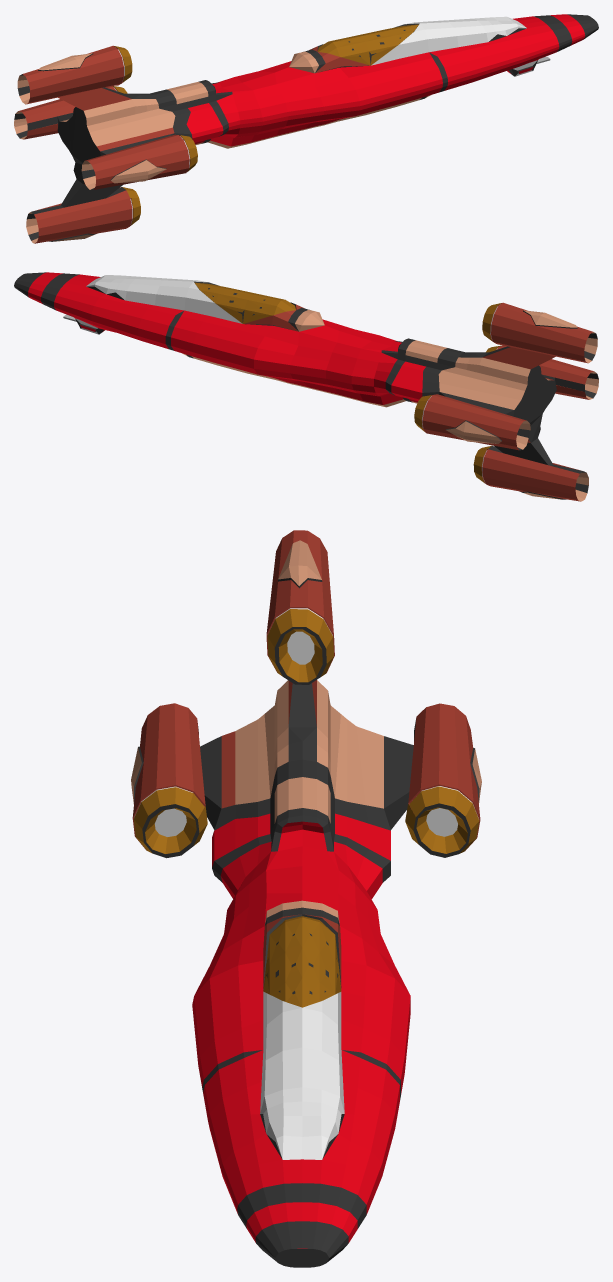
Rendered from NoUpg.fbx.
3 renders of one model, top to bottom at view 1: azimuth 30°, elevation 25°; view 2: azimuth 150°, elevation 25°; view 3: azimuth 270°, elevation 25°, orthographic. The views are drawn at different scales.
Parts seen in each view (by area): view 1: NaN; view 2: NaN; view 3: NaN.
Part boxes in pixels (x1,y1,x2,y2): NaN: (14, 14, 598, 243); NaN: (14, 272, 598, 501); NaN: (131, 530, 481, 1267).
Bounding box in the file's own units: 471 × 144 × 126.
